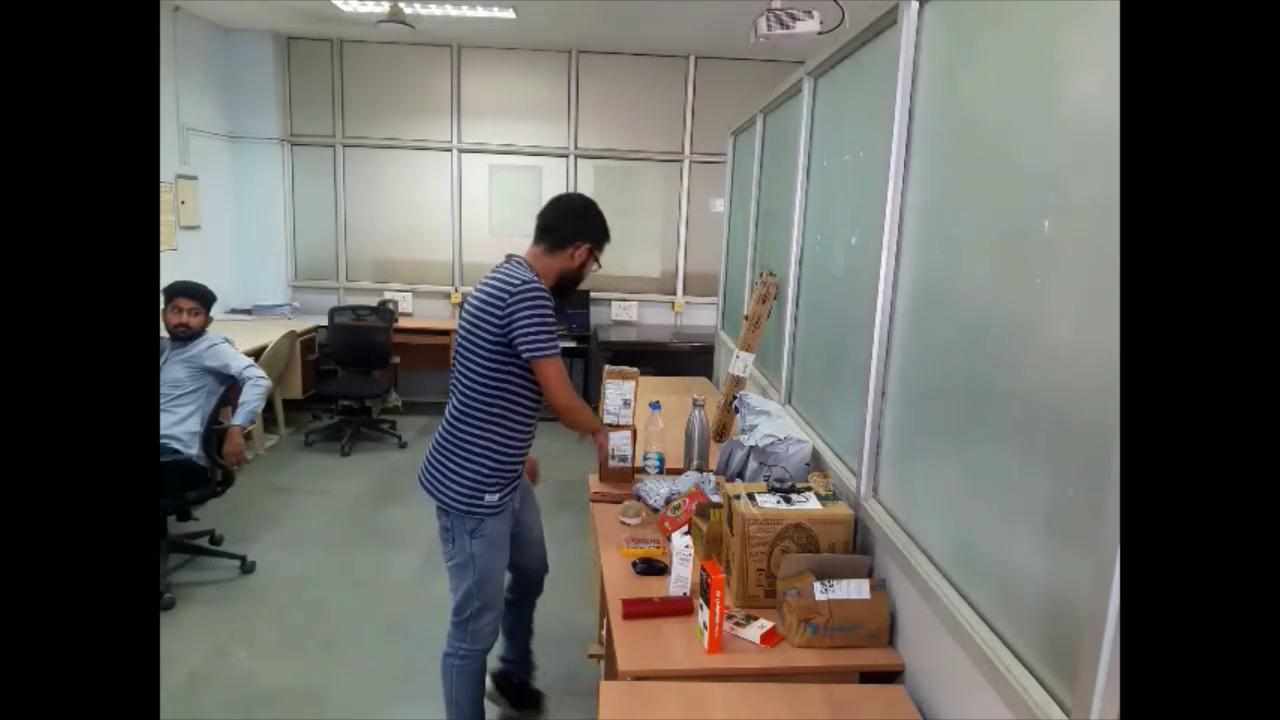Normal: (413, 163, 611, 717)
